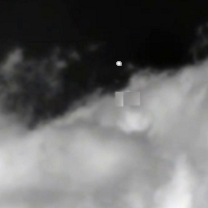Target: (115, 59, 123, 67)
